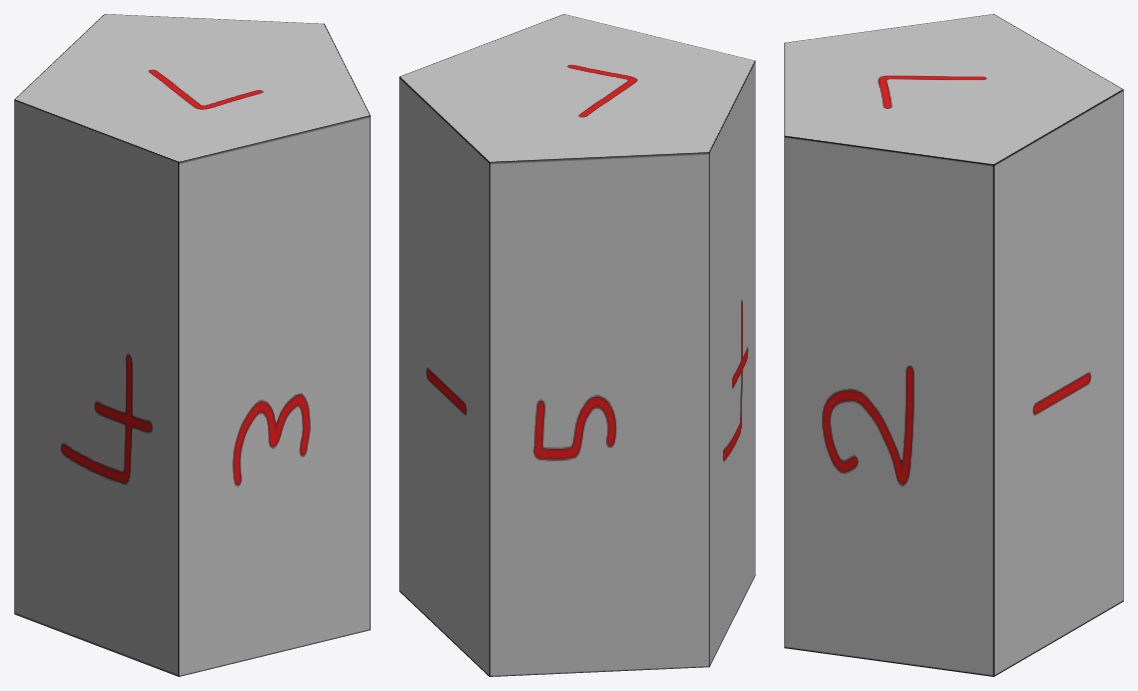
The model's file is UITESTUntitled.fbx.
3 renders of one model, left to right at view 1: azimuth 30°, elevation 25°; view 2: azimuth 150°, elevation 25°; view 3: azimuth 270°, elevation 25°, orthographic.
Visible parts, largest first — view 1: Cylinder; view 2: Cylinder; view 3: Cylinder.
Boxes of the visible parts, x1=… form: Cylinder: x1=14, y1=14, x2=370, y2=676; Cylinder: x1=399, y1=14, x2=755, y2=676; Cylinder: x1=784, y1=14, x2=1123, y2=676.
Size of the model in its own units: 190 by 302 by 181.
Materials: 1 (1 with a texture image).
